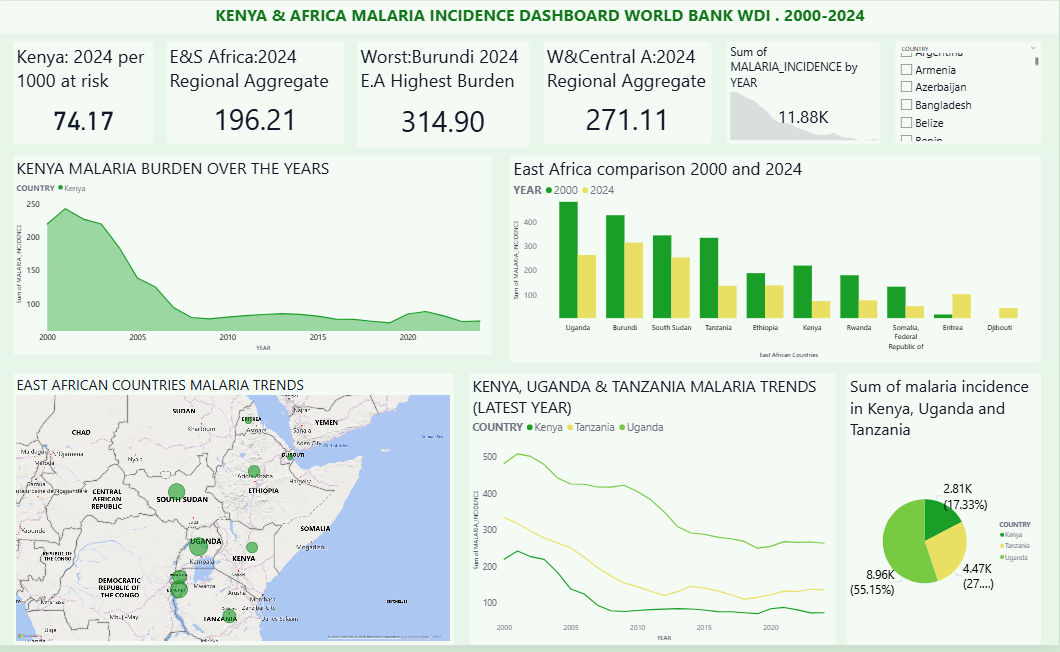

Layout of this report page (visuals, bound fields, positions):
{"tool":"powerbi","page":{"name":"Page 1","canvas":[2800,1700],"ordinal":0},"visuals":[{"type":"stackedAreaChart","title":"KENYA MALARIA BURDEN OVER THE YEARS","fields":{"Category":["WB_WDI_SH_MLR_INCD_P3.YEAR"],"Y":["Sum(WB_WDI_SH_MLR_INCD_P3.MALARIA_INCIDENCE)"],"Series":["WB_WDI_SH_MLR_INCD_P3.REF_AREA_LABEL"]},"box":[40,406.7,1263.3,526.7],"z":0},{"type":"lineChart","title":"KENYA, UGANDA & TANZANIA MALARIA TRENDS (LATEST YEAR)","fields":{"Category":["WB_WDI_SH_MLR_INCD_P3.YEAR"],"Y":["Sum(WB_WDI_SH_MLR_INCD_P3.MALARIA_INCIDENCE)"],"Series":["WB_WDI_SH_MLR_INCD_P3.REF_AREA_LABEL"]},"box":[1243.3,983.3,966.7,716.7],"z":1000},{"type":"card","title":"       Kenya: 2024 per 1000 at risk","fields":{"Values":["Sum(WB_WDI_SH_MLR_INCD_P3.MALARIA_INCIDENCE)"]},"box":[40,106.7,370,270],"z":2000},{"type":"clusteredColumnChart","title":"East Africa comparison 2000 and 2024","fields":{"Category":["WB_WDI_SH_MLR_INCD_P3.REF_AREA_LABEL"],"Y":["Sum(WB_WDI_SH_MLR_INCD_P3.MALARIA_INCIDENCE)"],"Series":["WB_WDI_SH_MLR_INCD_P3.YEAR"]},"box":[1353.3,406.7,1400,546.7],"z":3000},{"type":"card","title":"E&S Africa:2024 Regional Aggregate","fields":{"Values":["Sum(WB_WDI_SH_MLR_INCD_P3.MALARIA_INCIDENCE)"]},"box":[443.3,106.7,470,270],"z":4000},{"type":"card","title":"Worst:Burundi 2024 E.A Highest Burden","fields":{"Values":["Sum(WB_WDI_SH_MLR_INCD_P3.MALARIA_INCIDENCE)"]},"box":[946.7,106.7,453.3,280],"z":5000},{"type":"card","title":"W&Central A:2024 Regional Aggregate","fields":{"Values":["Sum(WB_WDI_SH_MLR_INCD_P3.MALARIA_INCIDENCE)"]},"box":[1440,106.7,443.3,270],"z":6000},{"type":"textbox","box":[0,0,2800,86.7],"z":7000},{"type":"map","title":"EAST AFRICAN COUNTRIES MALARIA TRENDS","fields":{"Size":["Sum(WB_WDI_SH_MLR_INCD_P3.MALARIA_INCIDENCE)"],"Category":["WB_WDI_SH_MLR_INCD_P3.REF_AREA_LABEL"]},"box":[40,983.3,1163.3,716.7],"z":7001},{"type":"slicer","fields":{"Values":["WB_WDI_SH_MLR_INCD_P3.REF_AREA_LABEL"]},"box":[2366.7,106.7,386.7,270],"z":7002},{"type":"kpi","fields":{"Indicator":["Sum(WB_WDI_SH_MLR_INCD_P3.MALARIA_INCIDENCE)"],"TrendLine":["WB_WDI_SH_MLR_INCD_P3.YEAR"]},"box":[1923.3,106.7,403.3,270],"z":7003},{"type":"pieChart","title":"Sum of malaria incidence in Kenya, Uganda and Tanzania","fields":{"Series":["WB_WDI_SH_MLR_INCD_P3.COUNTRY"],"Y":["Sum(WB_WDI_SH_MLR_INCD_P3.MALARIA_INCIDENCE)"]},"box":[2240,983.3,513.3,716.7],"z":7004}]}

Visuals, with their boxes in screenshot pixels (x1, y1, x2, y2), scaled from the page's 2800x1700 canvas onto the 1060x652 screenshot:
"KENYA MALARIA BURDEN OVER THE YEARS" stackedAreaChart: bbox=[15, 156, 493, 358]
"KENYA, UGANDA & TANZANIA MALARIA TRENDS (LATEST YEAR)" lineChart: bbox=[471, 377, 837, 651]
"       Kenya: 2024 per 1000 at risk" card: bbox=[15, 41, 155, 144]
"East Africa comparison 2000 and 2024" clusteredColumnChart: bbox=[512, 156, 1042, 366]
"E&S Africa:2024 Regional Aggregate" card: bbox=[168, 41, 346, 144]
"Worst:Burundi 2024 E.A Highest Burden" card: bbox=[358, 41, 530, 148]
"W&Central A:2024 Regional Aggregate" card: bbox=[545, 41, 713, 144]
textbox: bbox=[0, 0, 1059, 33]
"EAST AFRICAN COUNTRIES MALARIA TRENDS" map: bbox=[15, 377, 456, 651]
slicer - WB_WDI_SH_MLR_INCD_P3.REF_AREA_LABEL: bbox=[896, 41, 1042, 144]
kpi - Sum(WB_WDI_SH_MLR_INCD_P3.MALARIA_INCIDENCE) x WB_WDI_SH_MLR_INCD_P3.YEAR: bbox=[728, 41, 881, 144]
"Sum of malaria incidence in Kenya, Uganda and Tanzania" pieChart: bbox=[848, 377, 1042, 651]
